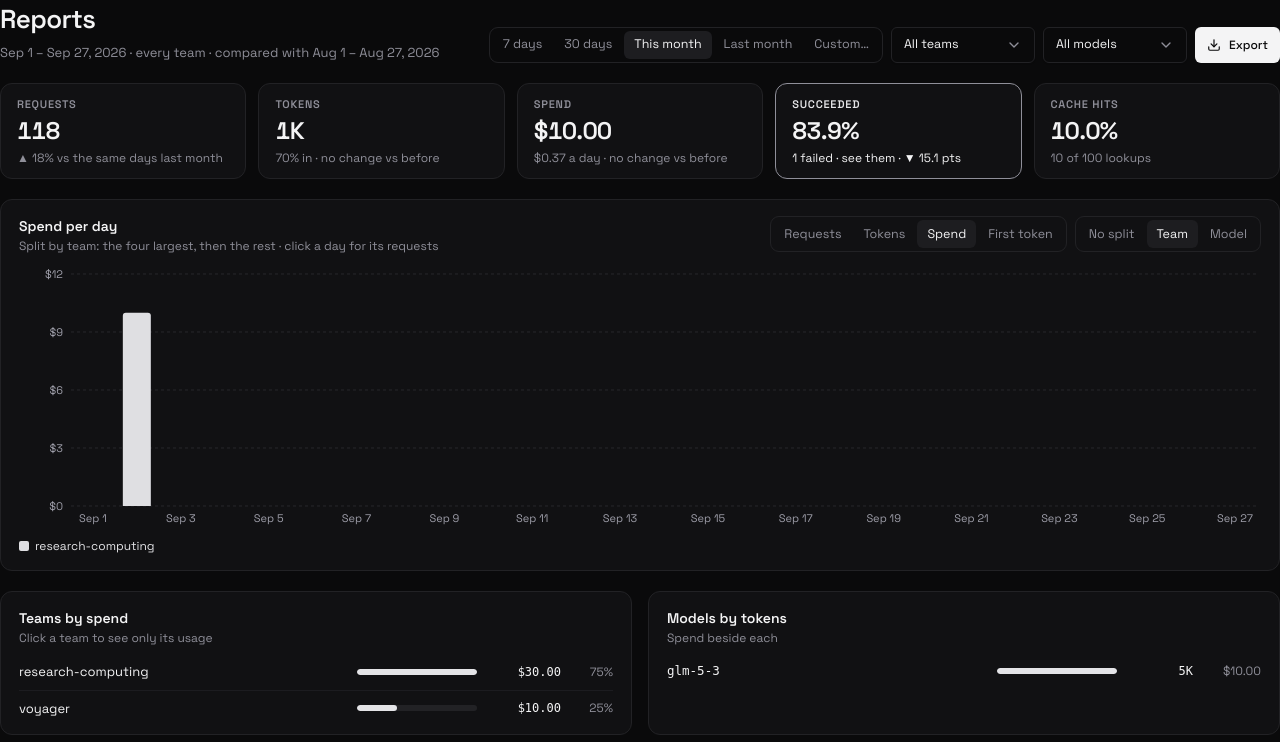
Scenario: the Reports page › filters the whole page to a team clicked in the ranking
Click the button "research-computing $30.00 75%" at point(84, 672), box [19,654,613,690]
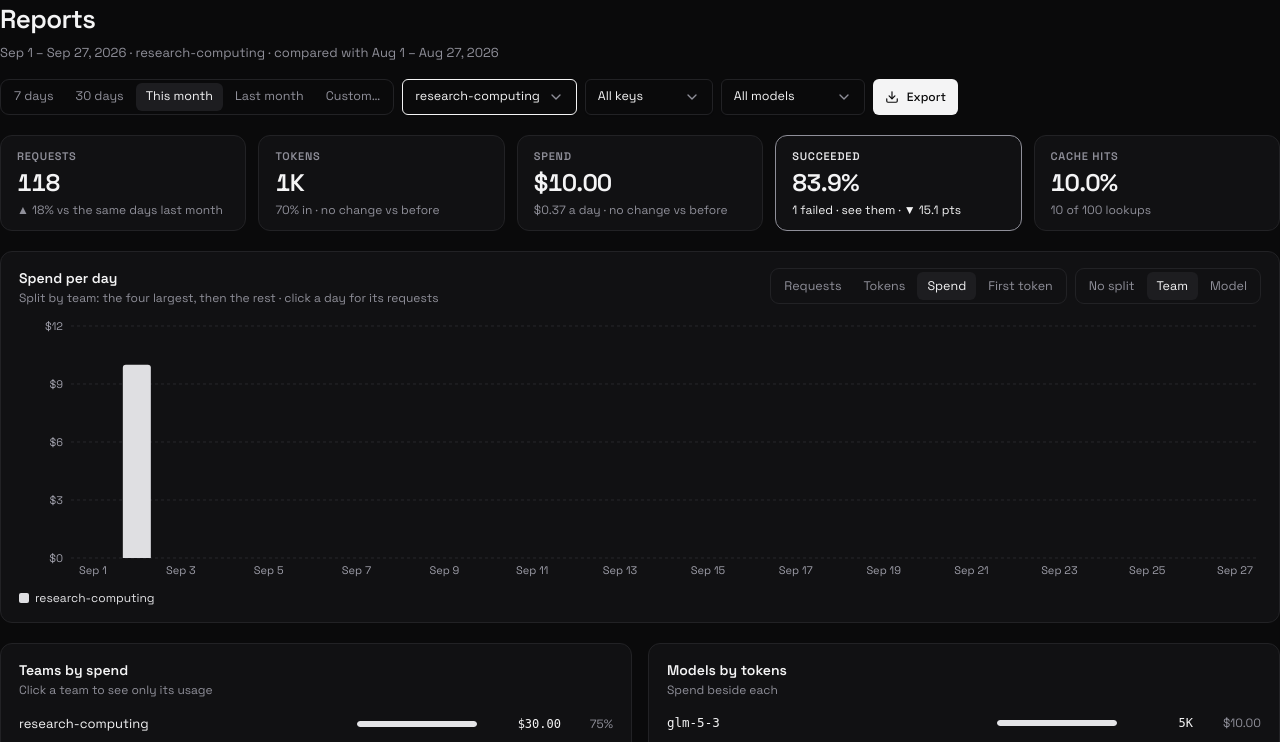
expect the text "· research-computing ·" is shown: met, box [0,44,499,61]
